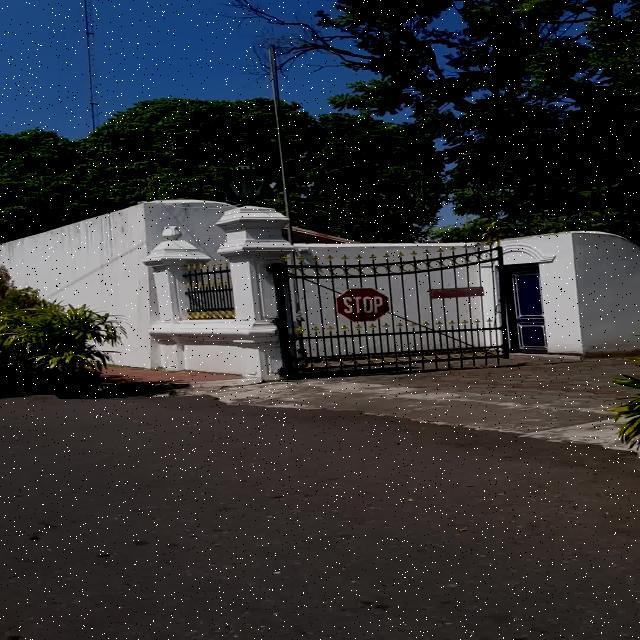Berhenti: (336, 288, 389, 321)
